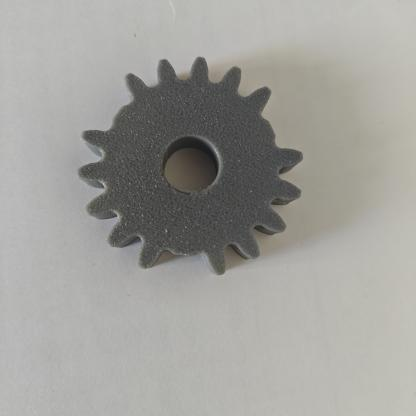defect: (241, 86, 321, 176), (142, 216, 227, 293), (77, 69, 154, 142)
gear: (53, 48, 340, 301)
